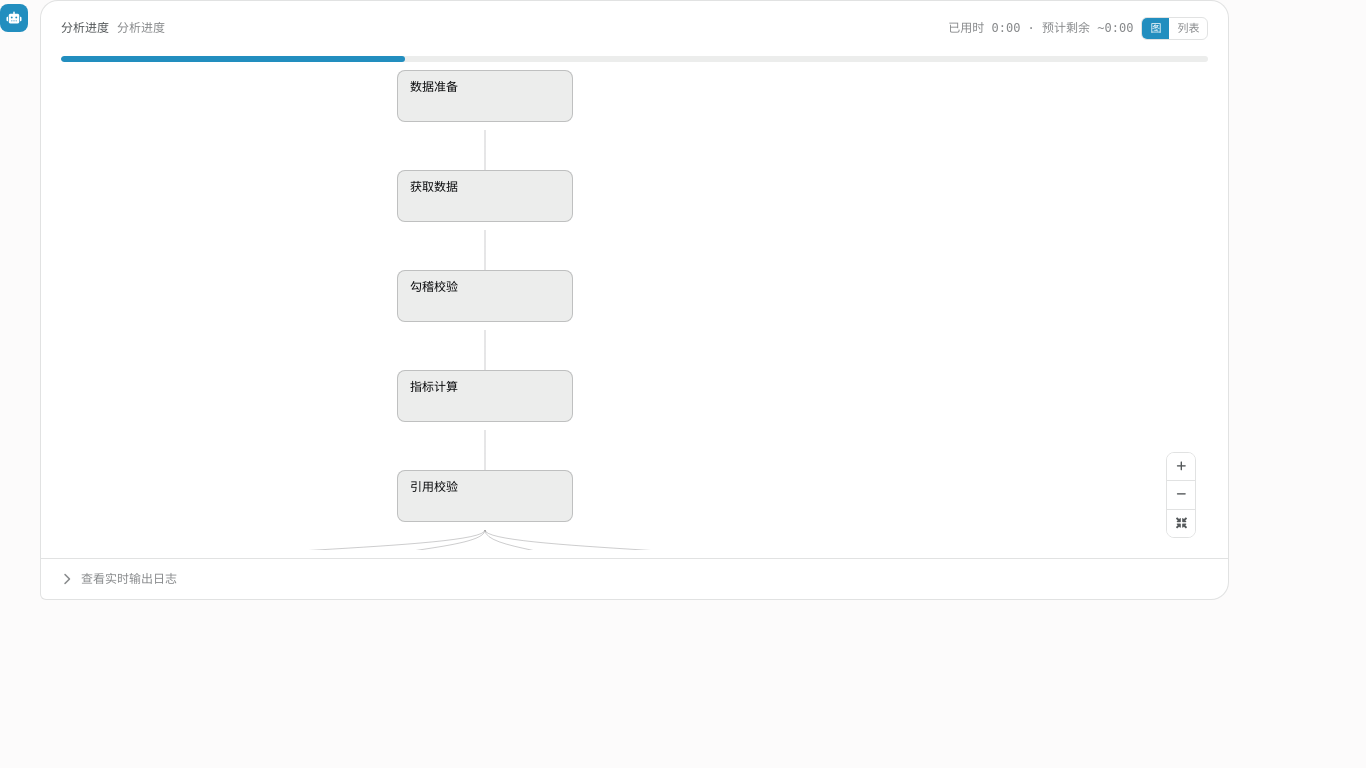
Test: PipelineCard 图/列表视图切换 › 点击「列表」切换视图并写 localStorage
Step 1. Click the button with test id "pipeline-view-list" → (1188, 28), box top-left (1169, 18), bottom-right (1207, 38)
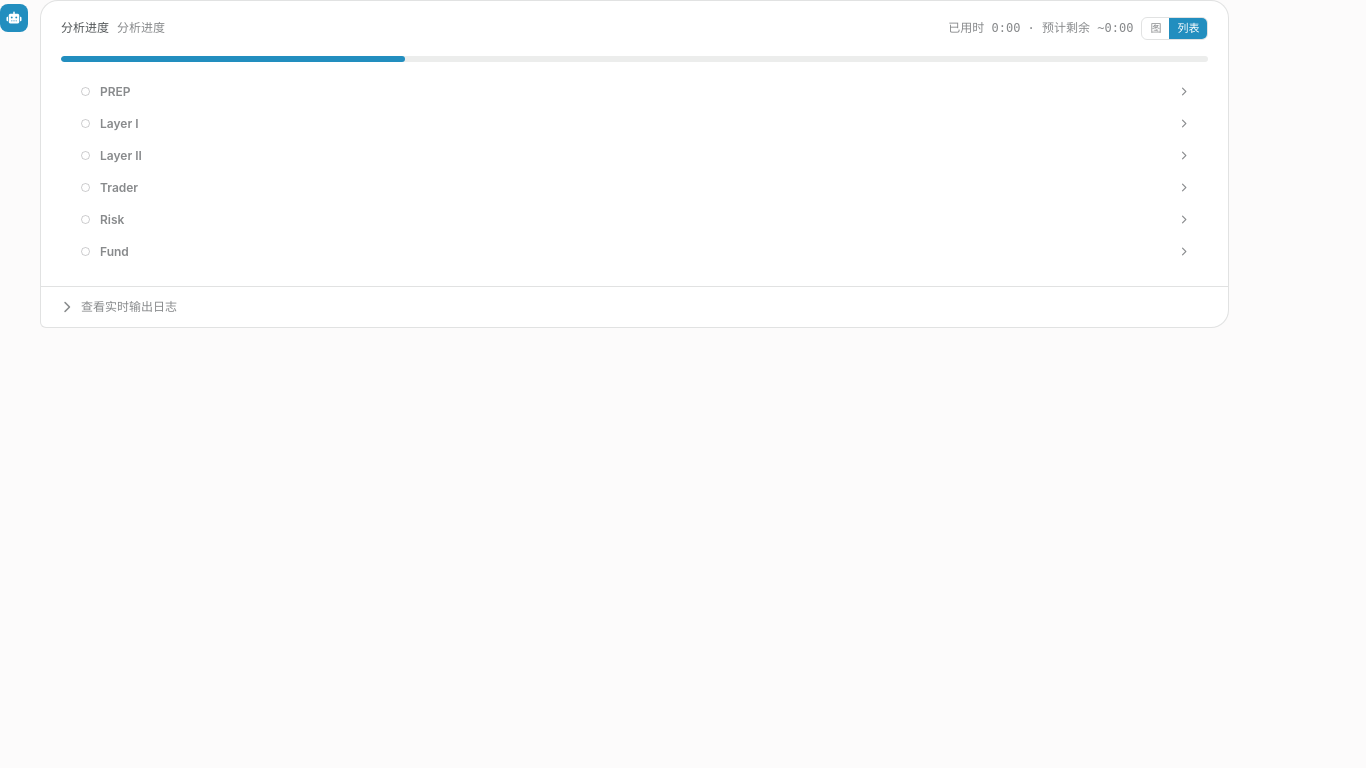
Check: the element with test id "pipeline-timeline" is shown, box top-left (61, 70), bottom-right (1208, 278)
Check: the element with test id "pipeline-graph" is gone
